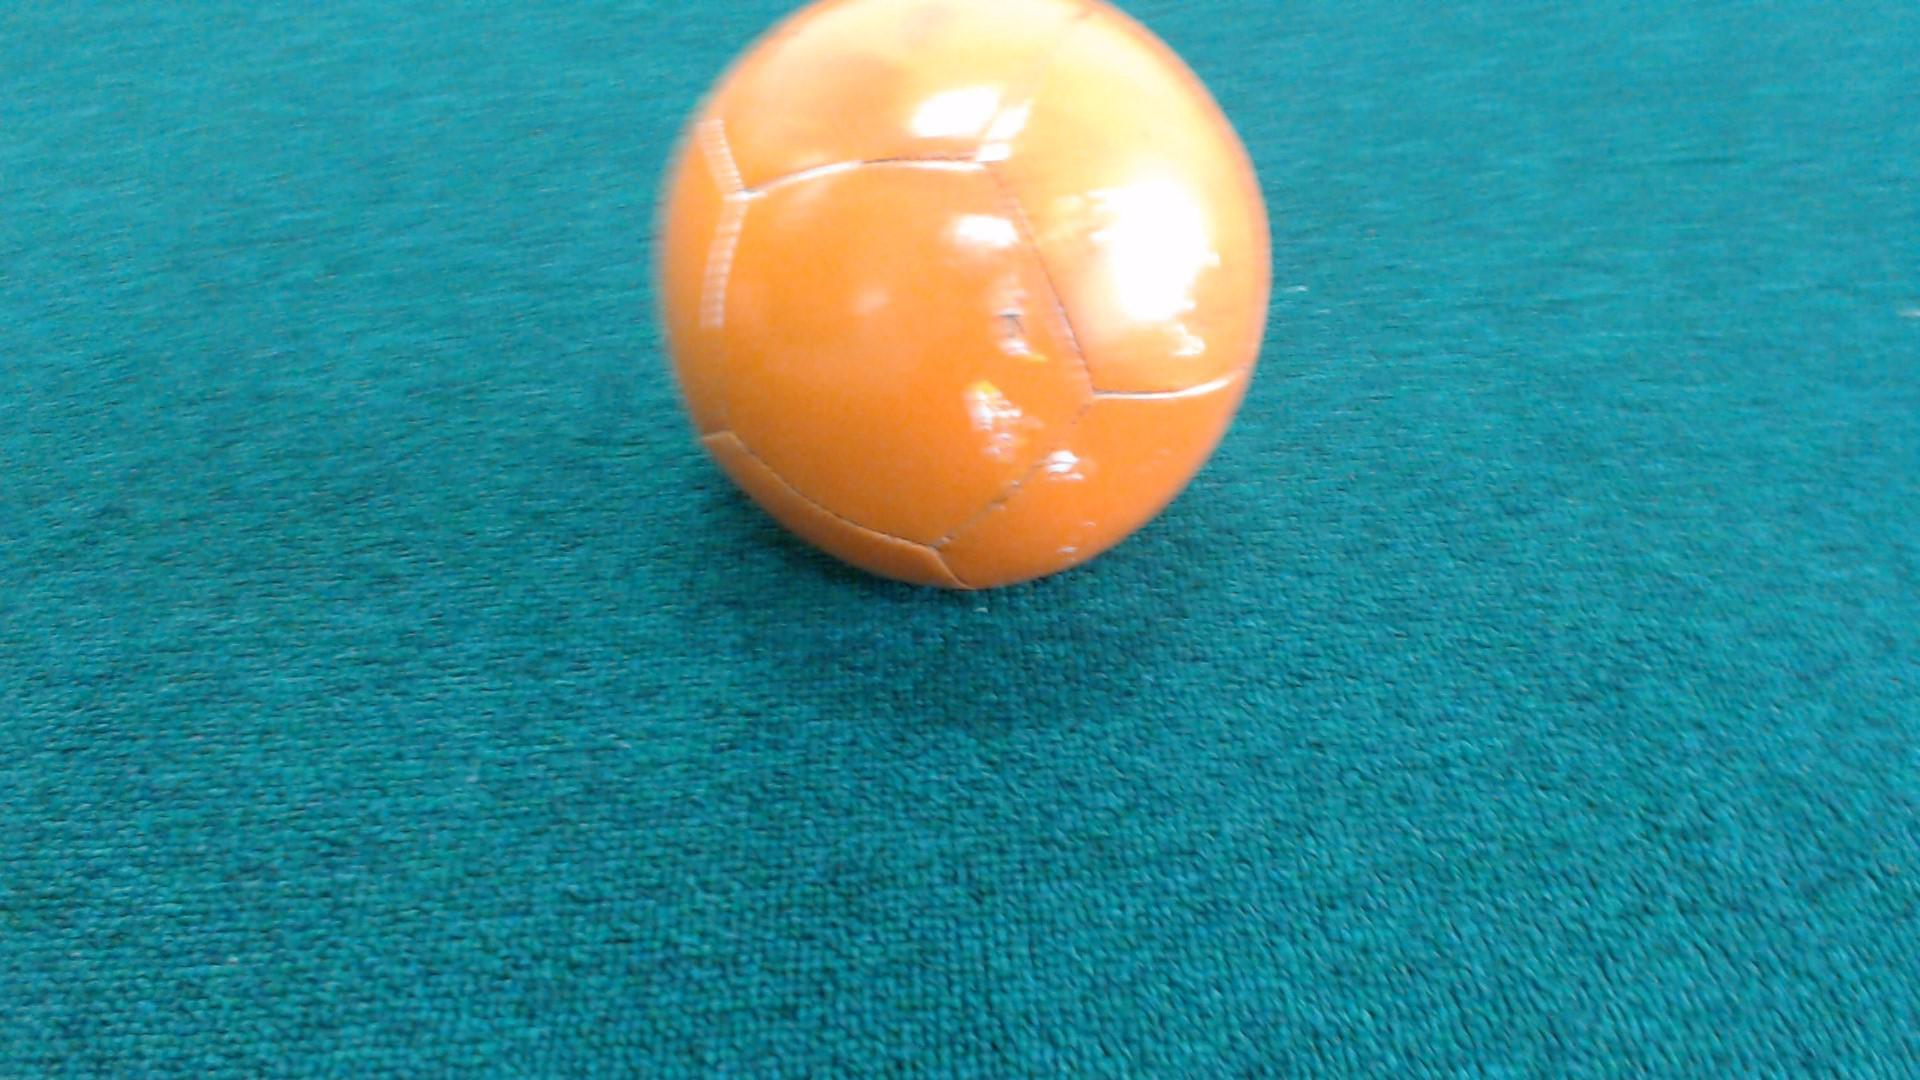bola: (618, 0, 1305, 626)
